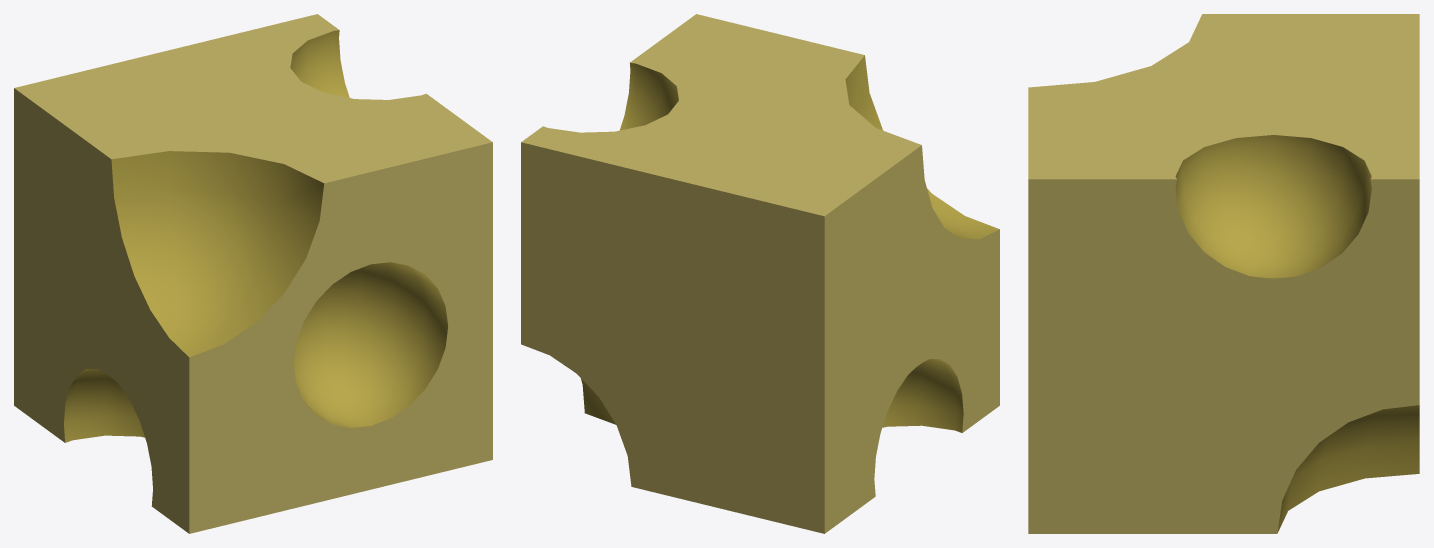
File: Cheese A.fbx
3 views of the same model, side by side, from view 1: azimuth 30°, elevation 25°; view 2: azimuth 150°, elevation 25°; view 3: azimuth 270°, elevation 25° (orthographic). The views are drawn at different scales.
Parts seen in each view (by area): view 1: Cheese A; view 2: Cheese A; view 3: Cheese A.
Boxes of the visible parts, bbox=[...] form: Cheese A: bbox=[14, 14, 492, 533]; Cheese A: bbox=[521, 14, 999, 533]; Cheese A: bbox=[1028, 14, 1419, 533].
Size of the model in its own units: 0.0944 by 0.0944 by 0.0944.
